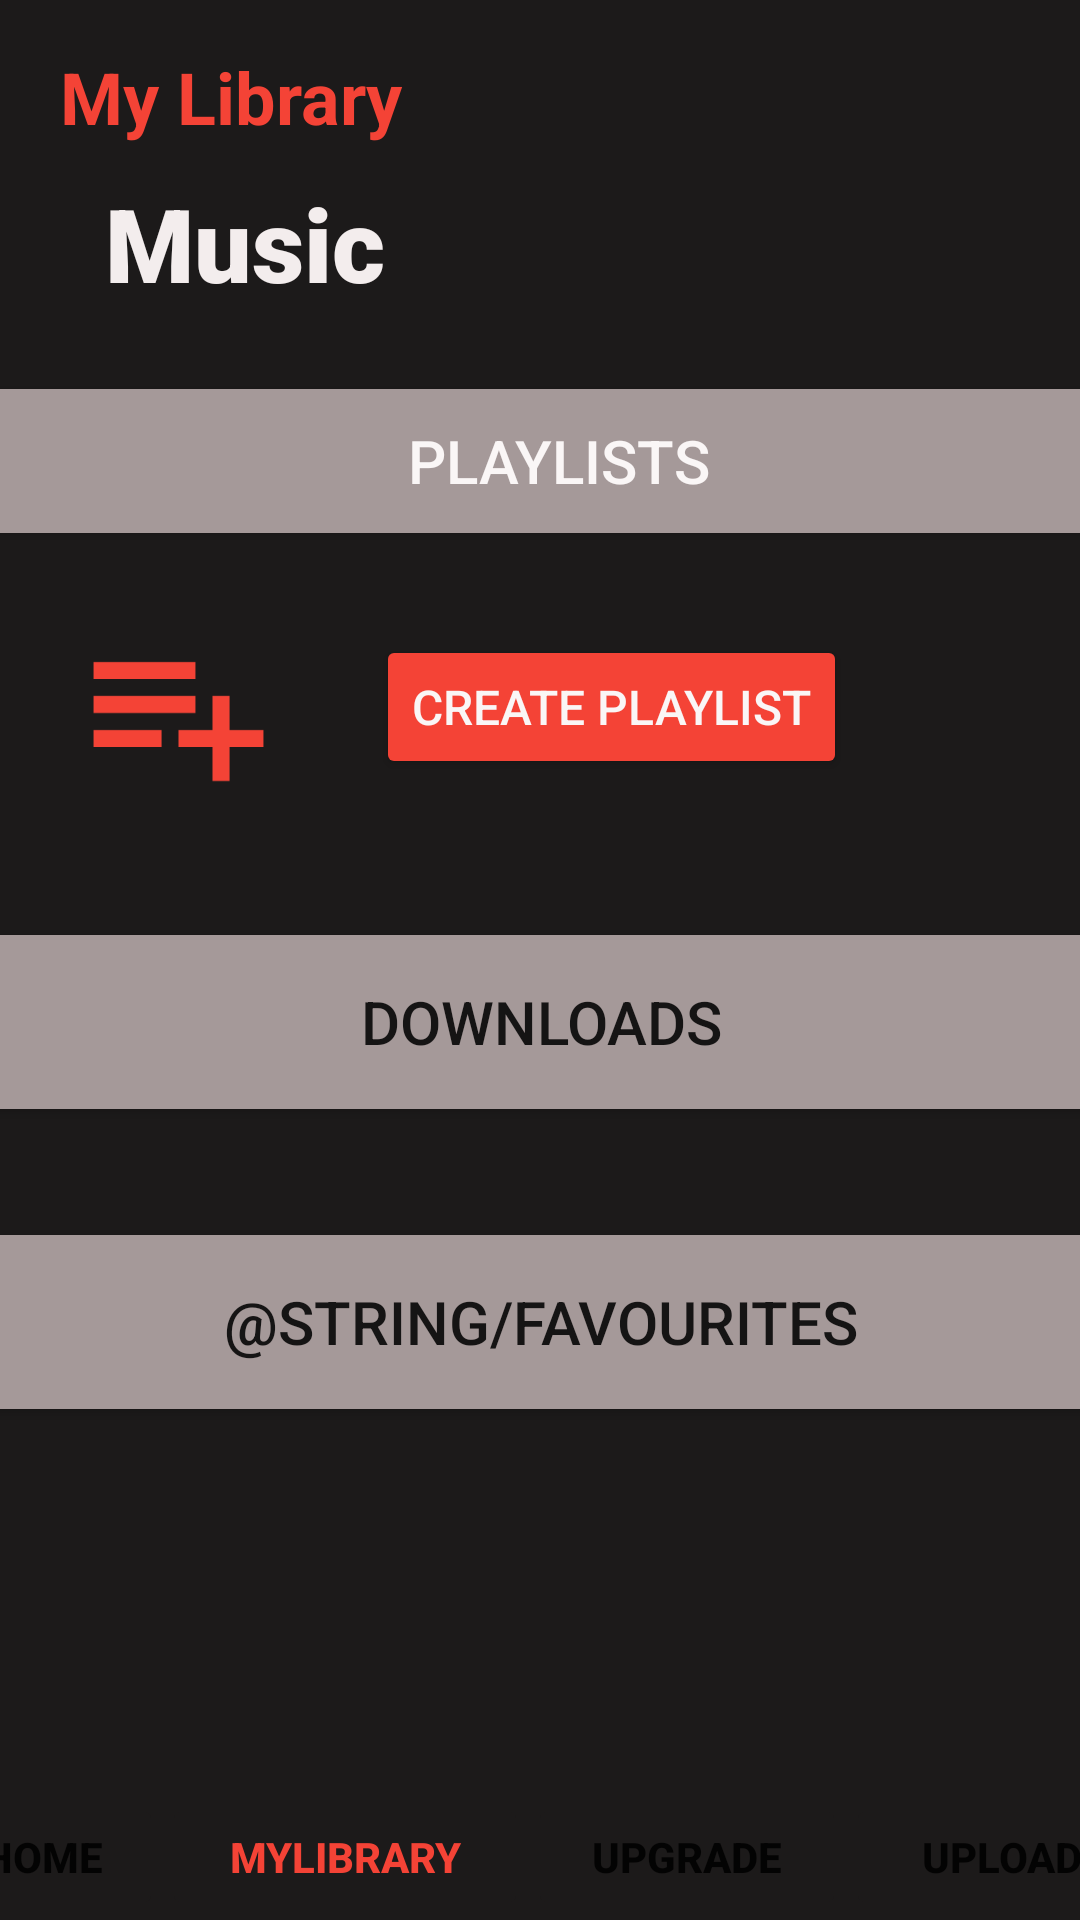

Named icons in this screenshot (1080*1920) and their centers, point (x, y):
playlist add: point (178, 722)
